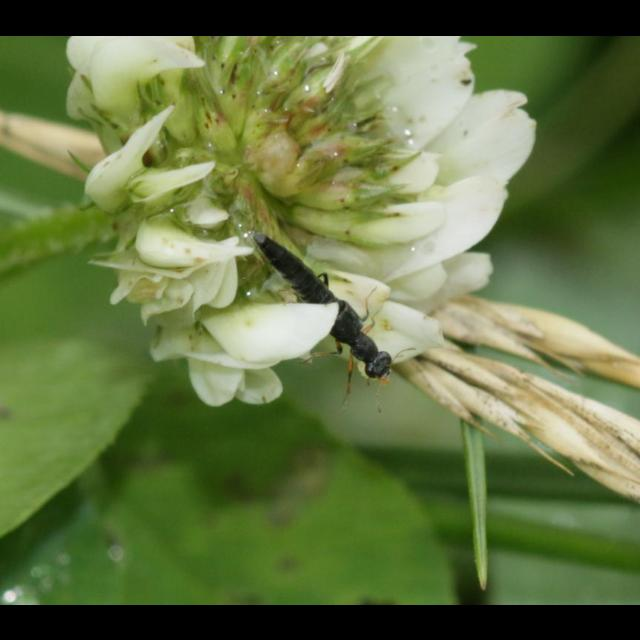Flower: (68, 36, 560, 478)
